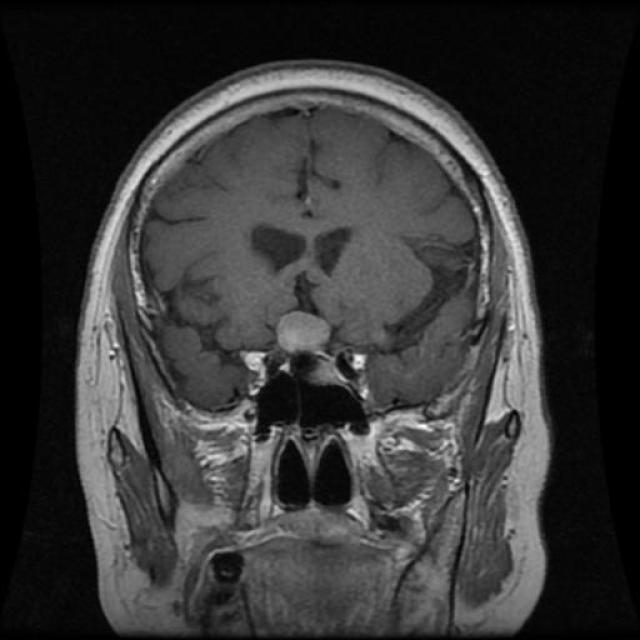pituitary: (258, 272, 339, 359)
